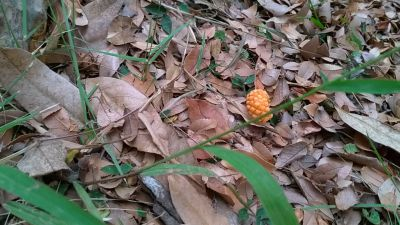eggs: (242, 86, 278, 125)
